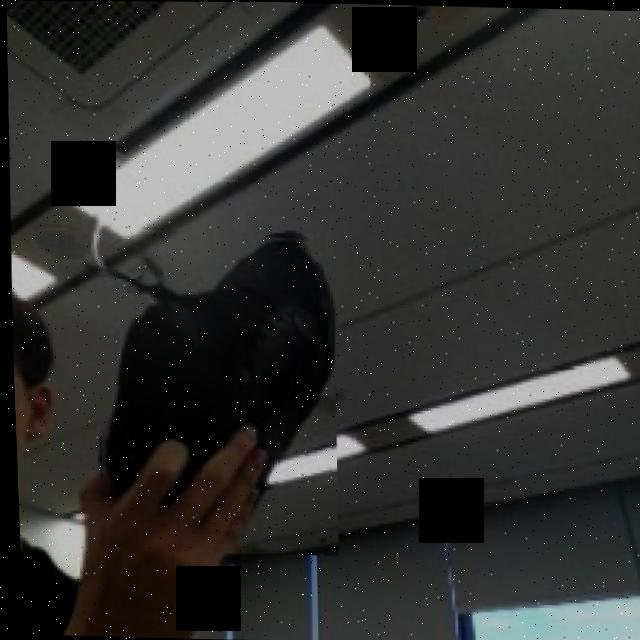shoe: (85, 225, 340, 555)
